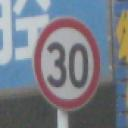speed_limit_30: (32, 20, 98, 108)
